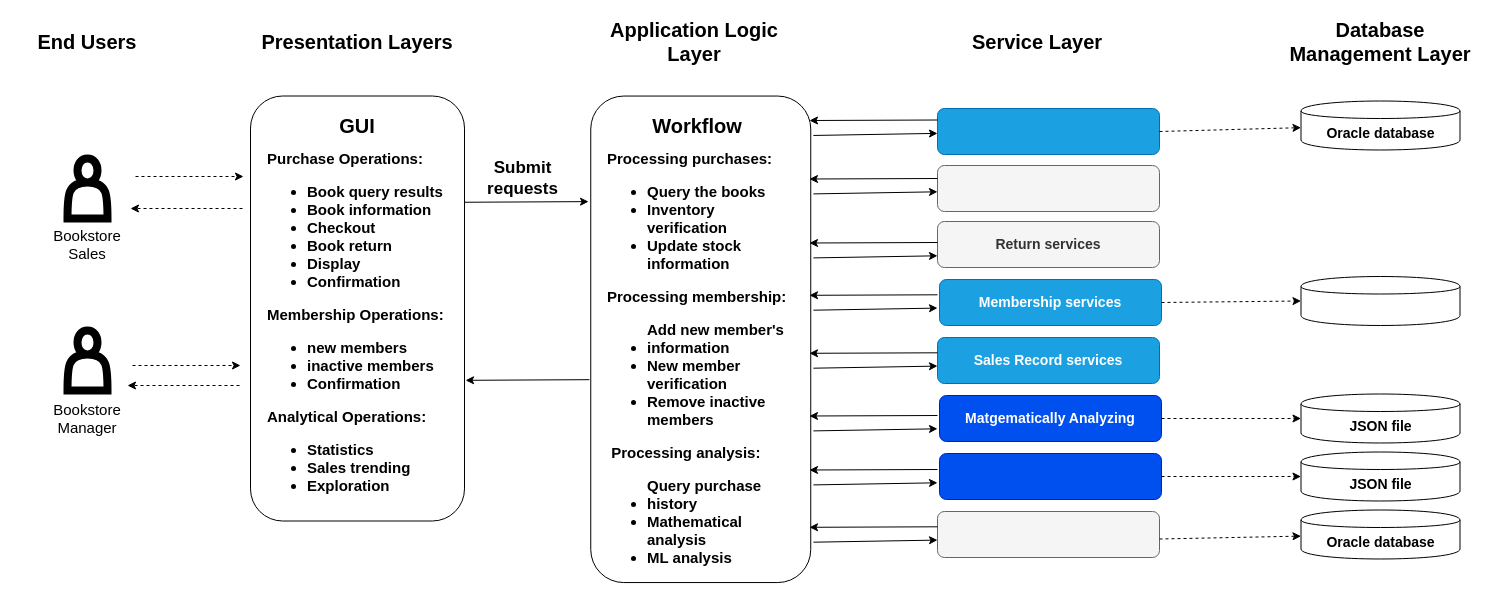
Some shapes in this 1497 by 600 pixel diagram are drawn without their labels. The box of each missing label's shape, as (x1, y1, x2, y2) in pixels:
Books operation services: (936, 108, 1160, 154)
Checkout services: (936, 164, 1160, 212)
Inventory services: (936, 510, 1160, 558)
ML Analyzing: (938, 452, 1162, 500)
XML file: (1300, 276, 1460, 326)
